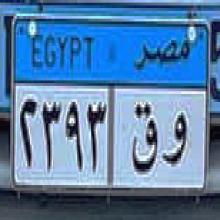2: (16, 92, 37, 176)
3: (39, 94, 64, 177), (86, 102, 107, 176)
9: (65, 98, 85, 186)
qaaf: (131, 98, 159, 181)
waw: (161, 103, 187, 170)
